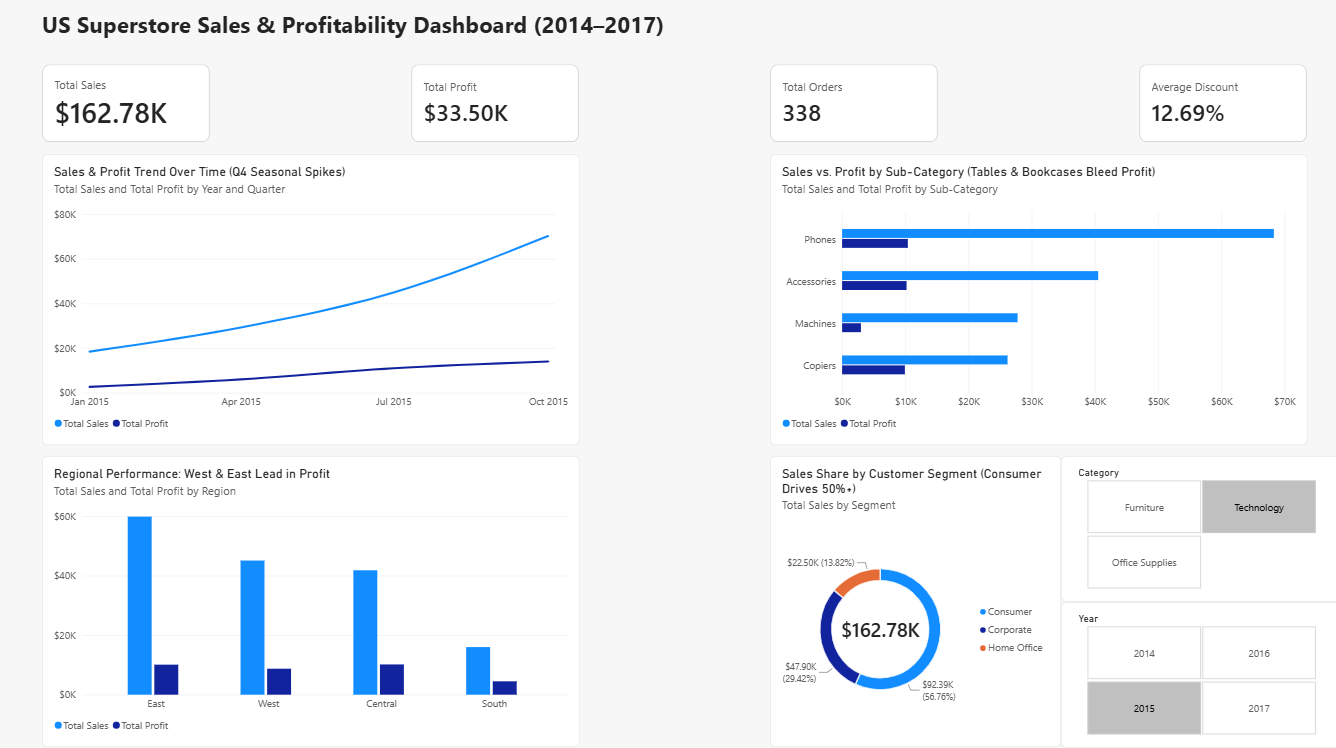

What the dashboard file says about the page in this screenshot:
{"tool":"powerbi","page":{"name":"Sales Overview","canvas":[1920,1080],"ordinal":0},"visuals":[{"type":"cardVisual","fields":{"Data":["Sample - Superstore.Total Sales"]},"box":[64,96,240,112],"z":0},{"type":"cardVisual","fields":{"Data":["Sample - Superstore.Total Profit"]},"box":[592,96,240,112],"z":1000},{"type":"cardVisual","fields":{"Data":["Sample - Superstore.Average Discount"]},"box":[1632,96,240,112],"z":2000},{"type":"cardVisual","fields":{"Data":["Sample - Superstore.Total Orders"]},"box":[1104,96,240,112],"z":3000},{"type":"lineChart","title":"Sales & Profit Trend Over Time (Q4 Seasonal Spikes)","fields":{"Category":["Sample - Superstore.Order Date.Variation.Date Hierarchy.Year","Sample - Superstore.Order Date.Variation.Date Hierarchy.Quarter","Sample - Superstore.Order Date.Variation.Date Hierarchy.Month"],"Y":["Sample - Superstore.Total Sales","Sample - Superstore.Total Profit"]},"box":[64,224,768,416],"z":4000},{"type":"clusteredBarChart","title":"Sales vs. Profit by Sub-Category (Tables & Bookcases Bleed Profit)","fields":{"Category":["Sample - Superstore.Sub-Category"],"Y":["Sample - Superstore.Total Sales","Sample - Superstore.Total Profit"]},"box":[1104,224,768,416],"z":5000},{"type":"clusteredColumnChart","title":"Regional Performance: West & East Lead in Profit","fields":{"Category":["Sample - Superstore.Region"],"Y":["Sample - Superstore.Total Sales","Sample - Superstore.Total Profit"]},"box":[64,656,768,416],"z":6000},{"type":"donutChart","title":"Sales Share by Customer Segment (Consumer Drives 50%+)","fields":{"Category":["Sample - Superstore.Segment"],"Y":["Sample - Superstore.Total Sales"]},"box":[1104,656,416,416],"z":7000},{"type":"slicer","fields":{"Values":["Sample - Superstore.Category"]},"box":[1520,656,400,208],"z":7001},{"type":"slicer","fields":{"Values":["Sample - Superstore.Order Date.Variation.Date Hierarchy.Year"]},"box":[1520,864,400,208],"z":7002},{"type":"textbox","box":[64,16,896,64],"z":7003}]}

Visuals, with their boxes in screenshot pixels (x1, y1, x2, y2), scaled from the page's 1920x1080 canvas onto the 1336x748 screenshot:
cardVisual - Sample - Superstore.Total Sales: [45, 66, 212, 144]
cardVisual - Sample - Superstore.Total Profit: [412, 66, 579, 144]
cardVisual - Sample - Superstore.Average Discount: [1136, 66, 1303, 144]
cardVisual - Sample - Superstore.Total Orders: [768, 66, 935, 144]
"Sales & Profit Trend Over Time (Q4 Seasonal Spikes)" lineChart: [45, 155, 579, 443]
"Sales vs. Profit by Sub-Category (Tables & Bookcases Bleed Profit)" clusteredBarChart: [768, 155, 1303, 443]
"Regional Performance: West & East Lead in Profit" clusteredColumnChart: [45, 454, 579, 742]
"Sales Share by Customer Segment (Consumer Drives 50%+)" donutChart: [768, 454, 1058, 742]
slicer - Sample - Superstore.Category: [1058, 454, 1335, 598]
slicer - Sample - Superstore.Order Date.Variation.Date Hierarchy.Year: [1058, 598, 1335, 742]
textbox: [45, 11, 668, 55]
